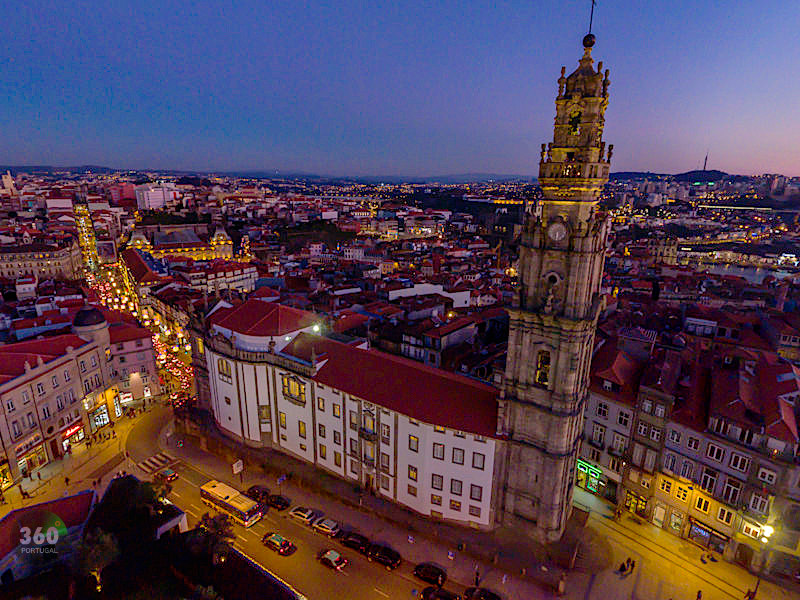clerigos: (491, 0, 614, 547)
